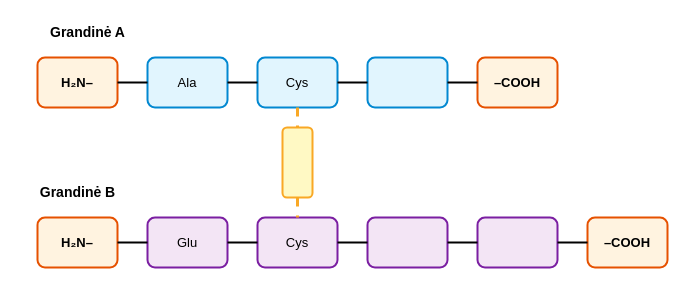
This 685x285 diagram has some shape labels left out. The centre of each missing label's shape, as x and y in pixels:
Arg: the point at 407,82
Gly: the point at 407,242
Lys: the point at 517,242
S–S: the point at 297,162
